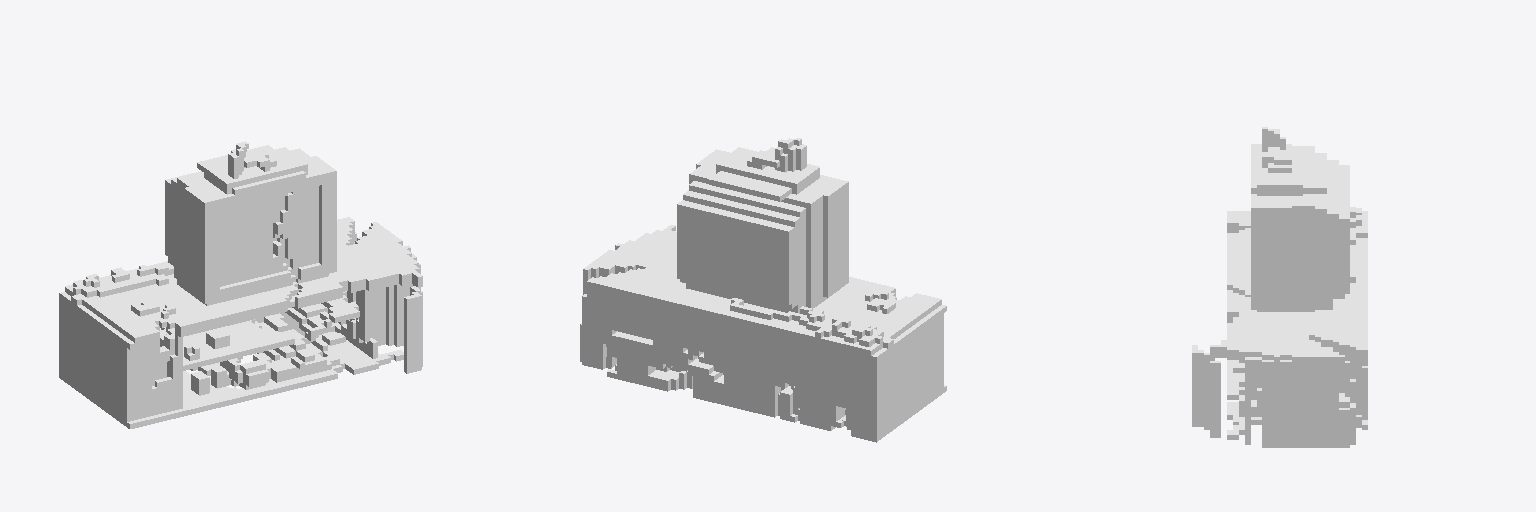
Rendered from tv2.vox.obj.
3 views of the same model, side by side, from view 1: azimuth 30°, elevation 25°; view 2: azimuth 150°, elevation 25°; view 3: azimuth 270°, elevation 25° (orthographic).
Visible parts, largest first — view 1: object 1; view 2: object 1; view 3: object 1.
Boxes of the visible parts, x1,y1,x2,y2 form: object 1: [59, 141, 422, 428]; object 1: [580, 138, 946, 442]; object 1: [1192, 127, 1367, 447].
Size of the model in its own units: 6 by 4.4 by 3.